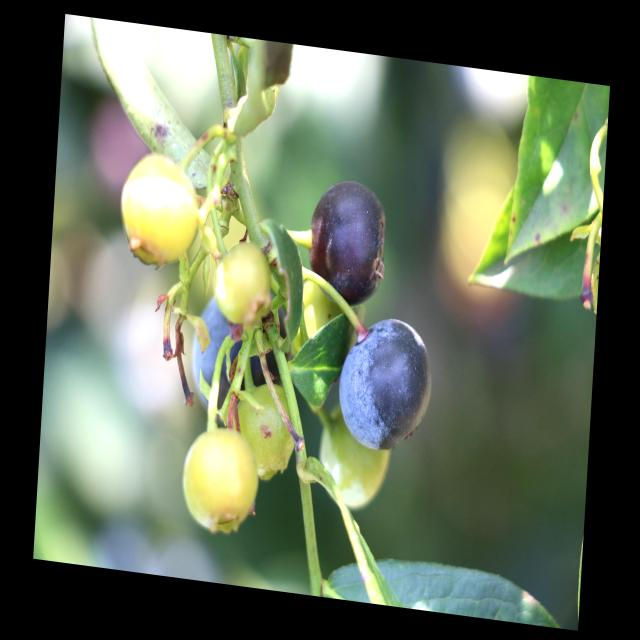blueberry: (191, 288, 295, 437), (332, 312, 436, 459), (307, 175, 389, 308)
blueberry-unripe: (176, 420, 262, 540), (116, 149, 200, 270), (313, 407, 394, 513), (231, 374, 300, 481), (211, 238, 272, 328)
